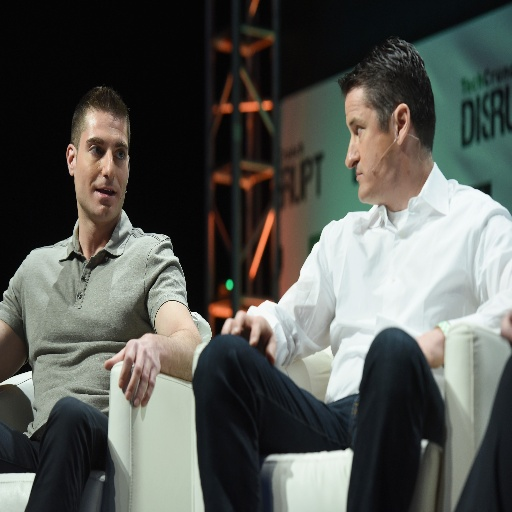hand: (102, 330, 161, 407), (220, 307, 278, 368), (413, 326, 443, 372), (498, 309, 511, 341)
